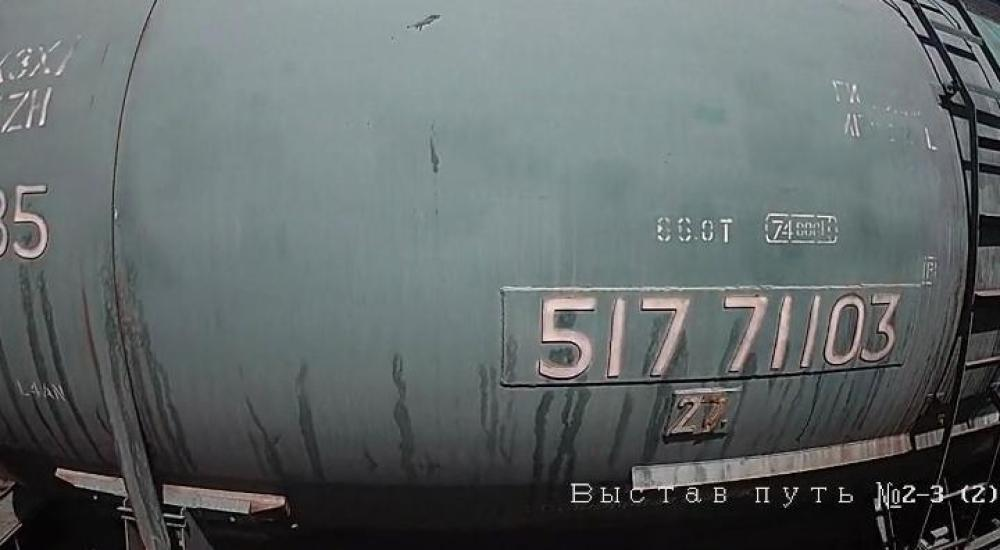Wagon-number: (533, 286, 906, 384)
